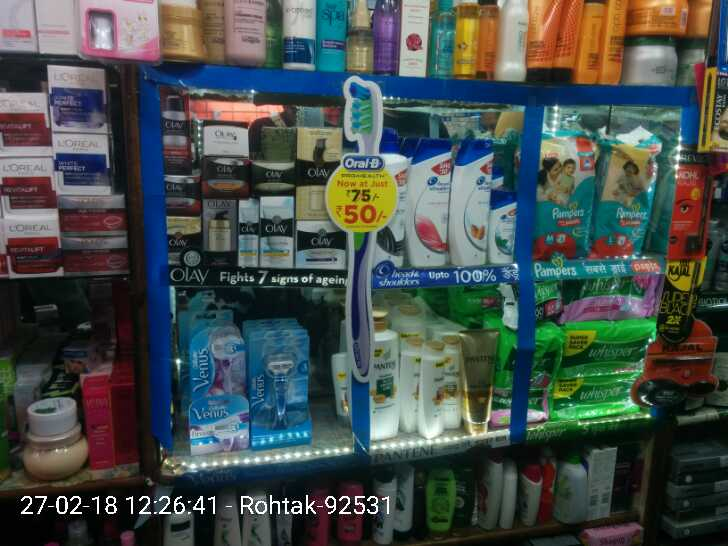venus: (186, 314, 250, 454), (250, 323, 312, 454)
